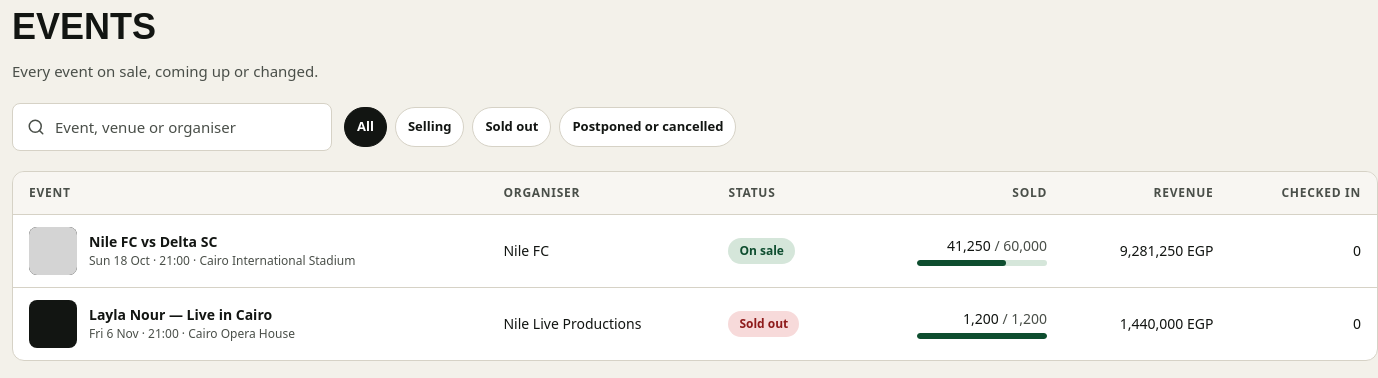
pages › events: filters by status and search
Check: the number of rows is 3, box [13, 172, 1377, 214]; [13, 214, 1377, 287]; [13, 287, 1377, 360]
Click the button "Sold out".
click(512, 126)  # box [472, 106, 551, 146]
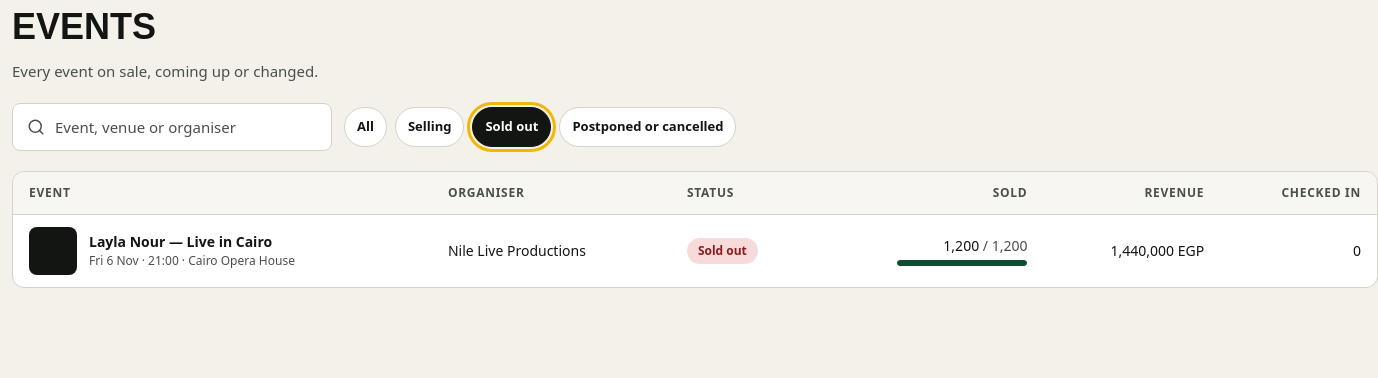
Check: the table named "Events" shows "Layla Nour", box [89, 231, 295, 252]
Check: the number of rows is 2, box [13, 172, 1377, 214]; [13, 214, 1377, 286]
Click the button "Postponed or cancelled".
click(648, 126)  # box [559, 106, 736, 146]
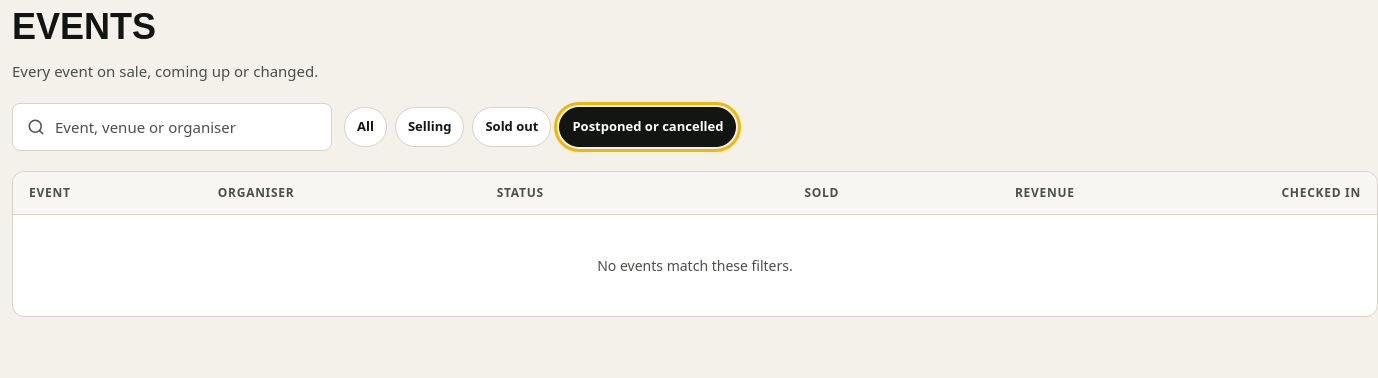
Check: the table "events" shows "No events match these filters.", box [597, 256, 793, 274]
